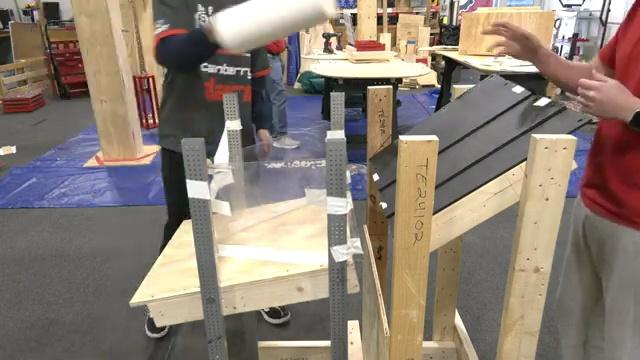CORAL: (201, 0, 336, 53)
